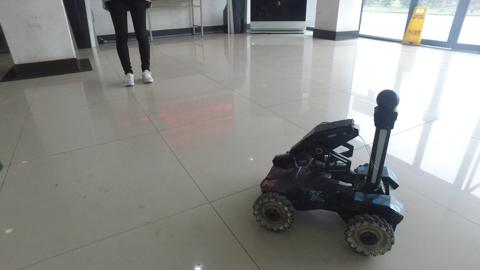chariot: (252, 88, 403, 259)
